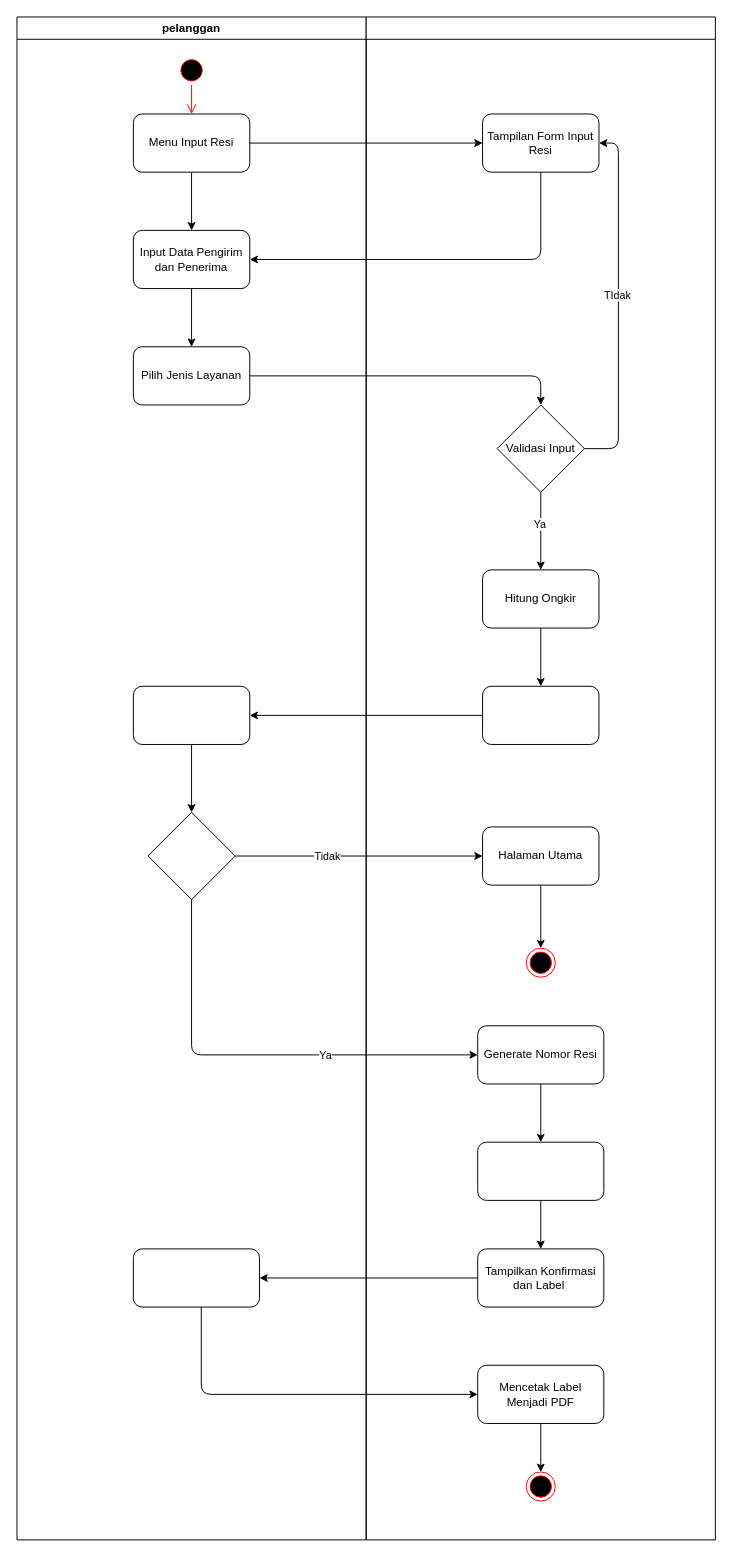
Some shapes in this 732 by 1557 pixel diagram are drawn without their labels. Here are the shapes that lost their labels. From the top down, the box of each, then its label:
(132, 685, 250, 744): Lihat Ringkasan Pengiriman
(482, 685, 599, 744): Tampilkan Total Ongkir & Estimasi
(365, 16, 715, 1540): sistem
(147, 811, 235, 900): Konfirmasi Pengiriman
(477, 1141, 604, 1200): Generate Label Pengiriman
(132, 1248, 259, 1307): Download atau Cetak Label
